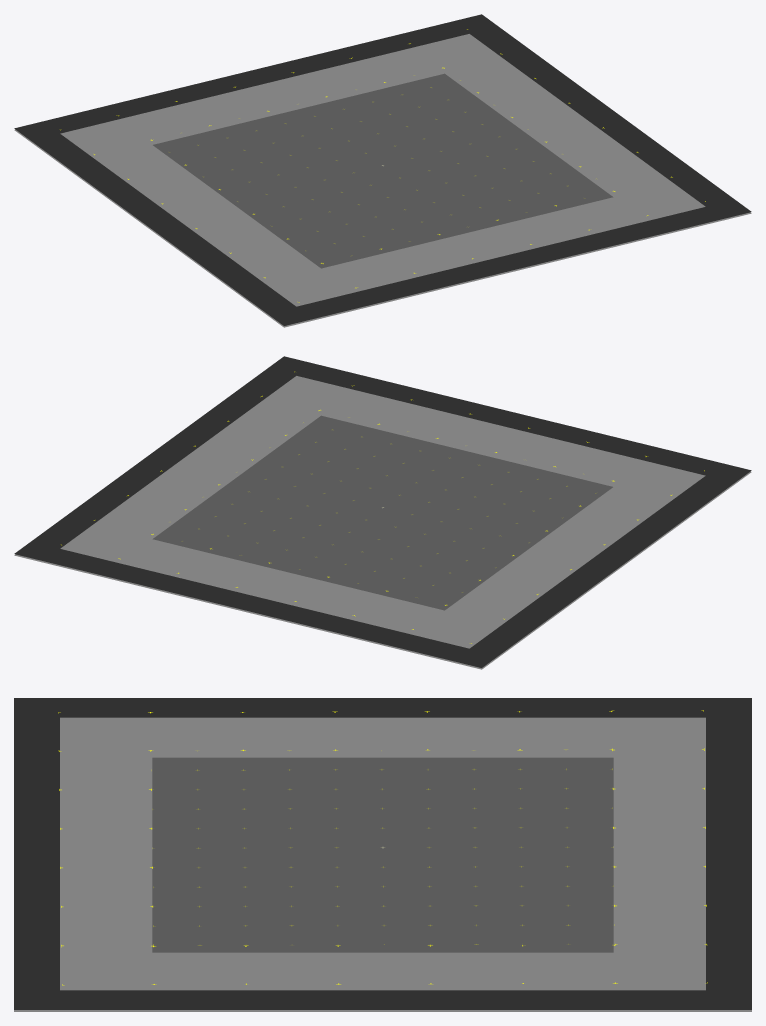
File: parcel1x1.gltf
The picture shows the model from 3 angles, top to bottom: view 1: azimuth 30°, elevation 25°; view 2: azimuth 150°, elevation 25°; view 3: azimuth 270°, elevation 25°; orthographic projection. The views are drawn at different scales.
Visible parts, largest first — view 1: 16mFloor, 1mFloorBg, roadSouth, roadWest, roadEast, roadNorth; view 2: 16mFloor, 1mFloorBg, roadEast, roadNorth, roadSouth, roadWest; view 3: 1mFloorBg, 16mFloor, roadEast, roadNorth, roadWest, roadSouth.
Part boxes in pixels (x1,y1,x2,y2): 16mFloor: (14,34,751,327); 1mFloorBg: (153,73,613,268); roadSouth: (268,200,751,325); roadWest: (14,121,304,325); roadEast: (453,14,750,215); roadNorth: (43,14,496,133); 16mFloor: (14,376,751,669); 1mFloorBg: (152,415,612,610); roadEast: (14,356,312,557); roadNorth: (16,548,498,667); roadSouth: (268,356,751,478); roadWest: (455,468,750,666); 1mFloorBg: (152,757,613,952); 16mFloor: (14,717,751,1011); roadEast: (14,990,751,1009); roadNorth: (706,698,751,1009); roadWest: (14,698,751,717); roadSouth: (14,698,59,990).
Size of what is drawn, in the model's own units: 16 by 0.2 by 16.
Materials: 3 (3 with a texture image).
